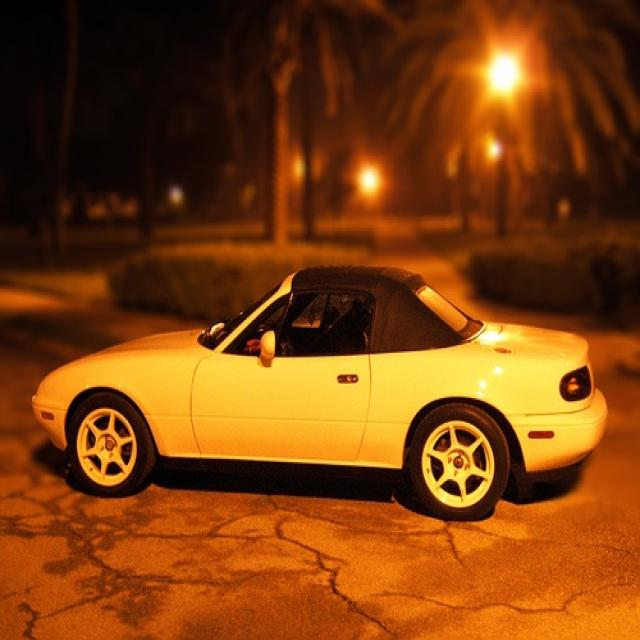car: (32, 264, 609, 523)
